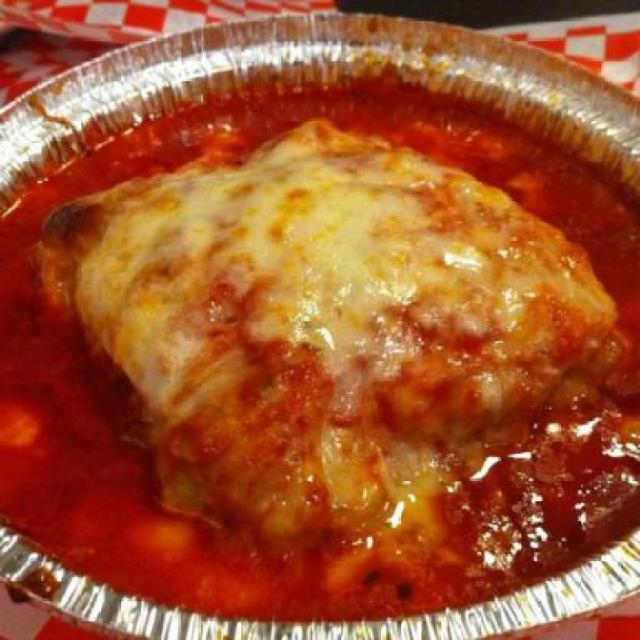Lasagna: (24, 115, 604, 548)
